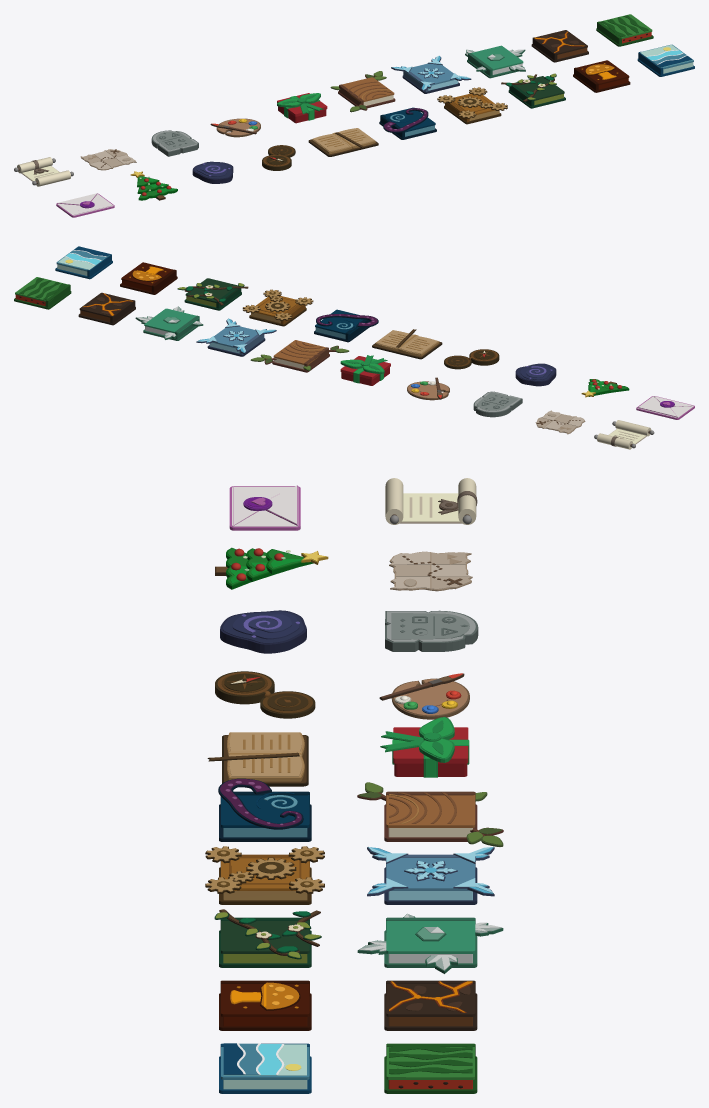
The model's file is skins-livros.fbx.
The picture shows the model from 3 angles, top to bottom: view 1: azimuth 30°, elevation 25°; view 2: azimuth 150°, elevation 25°; view 3: azimuth 270°, elevation 25°; orthographic projection. The views are drawn at different scales.
Visible parts, largest first — view 1: book_engrenagem_livro, book_floresta_livro, book_gelo_livro, book_cristais_livro, book_trepadeira_livro, book_tentaculo_livro, book_cogumelo_livro, book_ondas_livro, book_melancia_livro, book_aberto_livro, book_lava_livro, book_presente_livro (+8 smaller); view 2: book_floresta_livro, book_engrenagem_livro, book_gelo_livro, book_cristais_livro, book_tentaculo_livro, book_trepadeira_livro, book_ondas_livro, book_cogumelo_livro, book_melancia_livro, book_aberto_livro, book_lava_livro, book_presente_livro (+8 smaller); view 3: book_engrenagem_livro, book_floresta_livro, book_gelo_livro, book_cristais_livro, book_tentaculo_livro, book_trepadeira_livro, book_melancia_livro, book_cogumelo_livro, book_ondas_livro, book_aberto_livro, book_lava_livro, book_presente_livro (+8 smaller).
Part boxes in pixels (left/top/right/bottom): book_engrenagem_livro: left=437, top=87, right=507, bottom=124; book_floresta_livro: left=330, top=71, right=395, bottom=112; book_gelo_livro: left=391, top=55, right=471, bottom=93; book_cristais_livro: left=465, top=45, right=525, bottom=78; book_trepadeira_livro: left=501, top=73, right=565, bottom=108; book_tentaculo_livro: left=379, top=107, right=436, bottom=139; book_cogumelo_livro: left=573, top=60, right=630, bottom=92; book_ondas_livro: left=637, top=44, right=694, bottom=76; book_melancia_livro: left=596, top=14, right=653, bottom=46; book_aberto_livro: left=308, top=128, right=378, bottom=156; book_lava_livro: left=531, top=30, right=588, bottom=62; book_presente_livro: left=277, top=93, right=327, bottom=123; book_floresta_livro: left=250, top=340, right=349, bottom=372; book_engrenagem_livro: left=242, top=289, right=313, bottom=326; book_gelo_livro: left=196, top=318, right=276, bottom=356; book_cristais_livro: left=135, top=306, right=203, bottom=340; book_tentaculo_livro: left=314, top=309, right=378, bottom=342; book_trepadeira_livro: left=177, top=278, right=248, bottom=310; book_ondas_livro: left=55, top=246, right=112, bottom=279; book_cogumelo_livro: left=120, top=262, right=177, bottom=294; book_melancia_livro: left=14, top=277, right=71, bottom=309; book_aberto_livro: left=372, top=329, right=442, bottom=359; book_lava_livro: left=78, top=292, right=135, bottom=325; book_presente_livro: left=340, top=355, right=390, bottom=385; book_engrenagem_livro: left=205, top=846, right=324, bottom=904; book_floresta_livro: left=357, top=782, right=503, bottom=846; book_gelo_livro: left=367, top=846, right=494, bottom=904; book_cristais_livro: left=357, top=913, right=503, bottom=973; book_tentaculo_livro: left=218, top=778, right=311, bottom=841; book_trepadeira_livro: left=214, top=909, right=321, bottom=967; book_melancia_livro: left=384, top=1043, right=477, bottom=1093; book_cogumelo_livro: left=219, top=980, right=311, bottom=1030; book_ondas_livro: left=219, top=1043, right=311, bottom=1093; book_aberto_livro: left=207, top=732, right=308, bottom=786; book_lava_livro: left=384, top=980, right=477, bottom=1030; book_presente_livro: left=380, top=717, right=469, bottom=777.
Bounding box in the file's own units: 43.23 × 0.875 × 9.01.
Materials: 1 (1 with a texture image).
